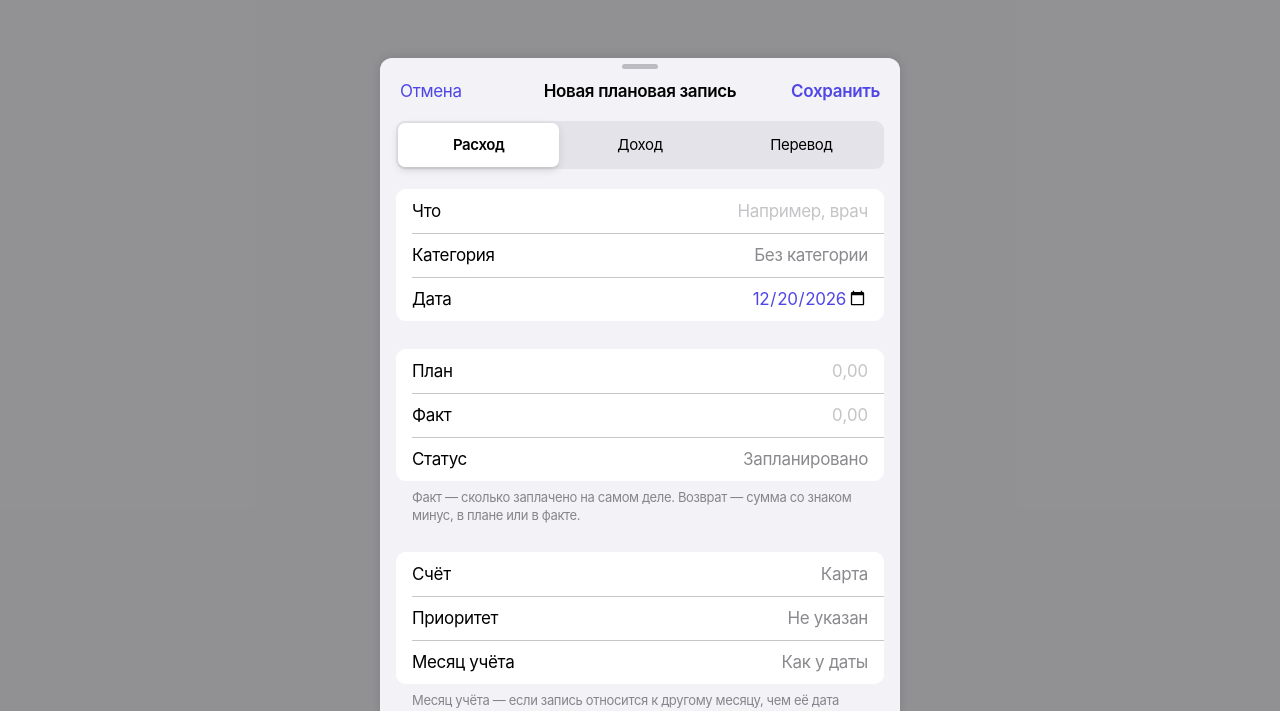
Test: JournalForm — «Перевод» › the kind switch has «Перевод»: no category, «Со счёта» and «На счёт» instead of «Счёт»
Step 1. Click the radio button labelled "Перевод" → (801,145), box [721,123,882,167]
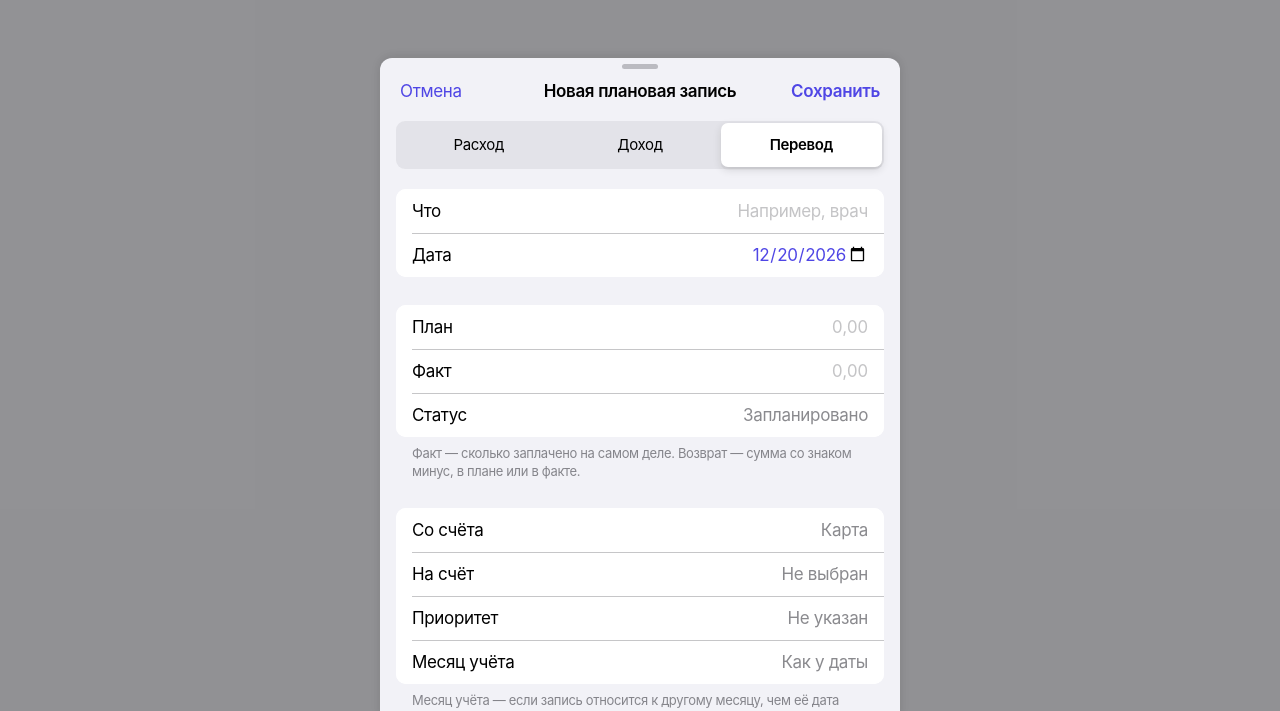
Check: the label labelled "Категория" is gone
Check: the dropdown labelled "Со счёта" shows "Карта", box [495,508,868,552]
Check: the dropdown labelled "На счёт" shows "Не выбран", box [486,552,868,596]
